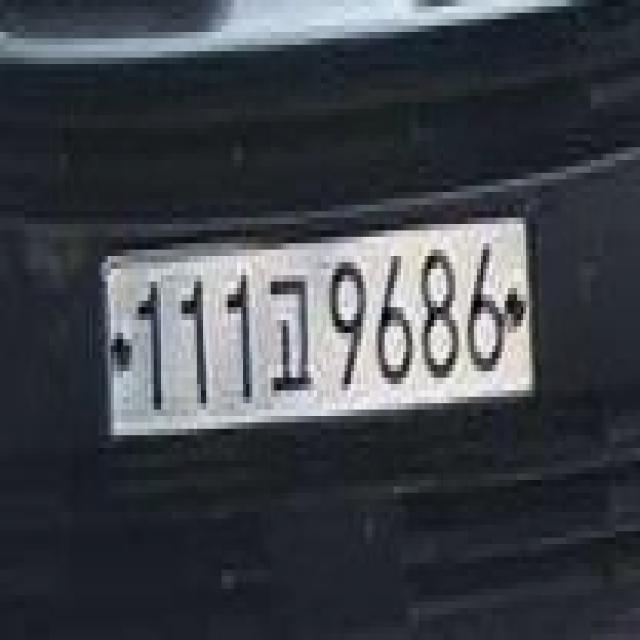illegal_plate: (93, 197, 536, 457)
